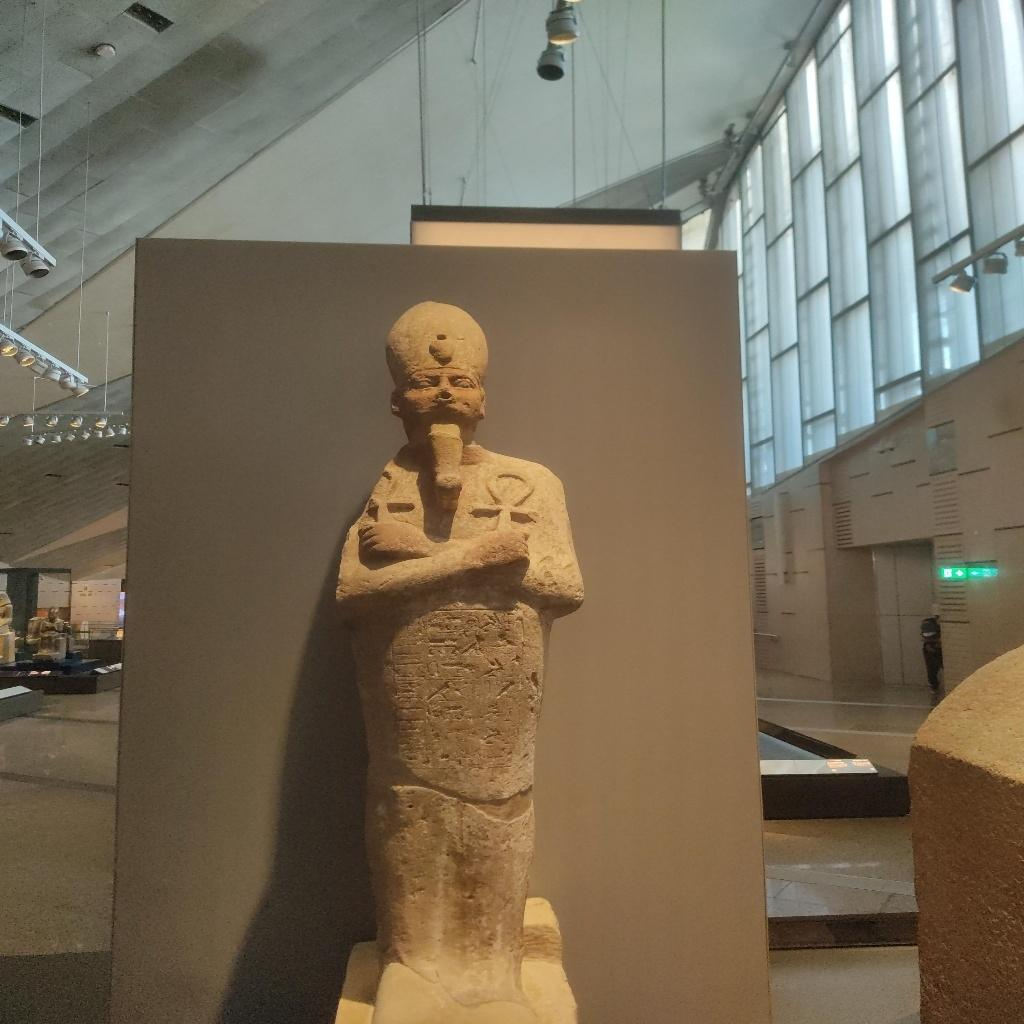Statue of Mentuhotep II: (352, 295, 580, 1021)
